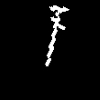double_crochet: (46, 6, 68, 65)
